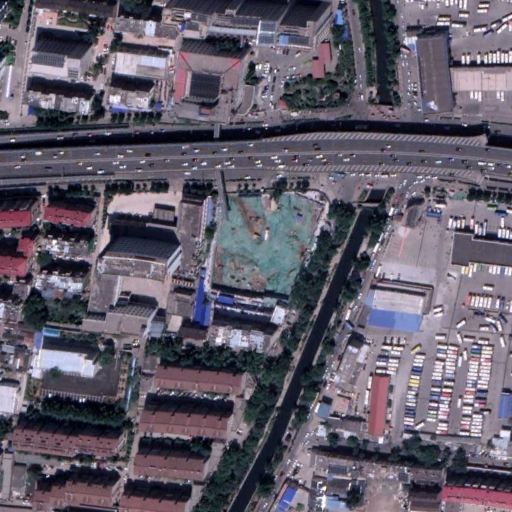cw: (209, 189, 323, 295)
